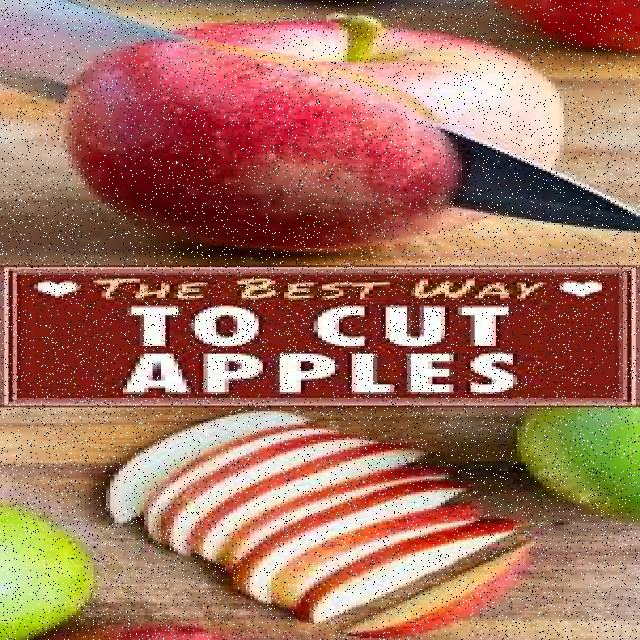Apple: (75, 21, 561, 248), (85, 412, 302, 512), (296, 527, 514, 617), (364, 552, 534, 634), (513, 407, 640, 516), (2, 505, 100, 640)
